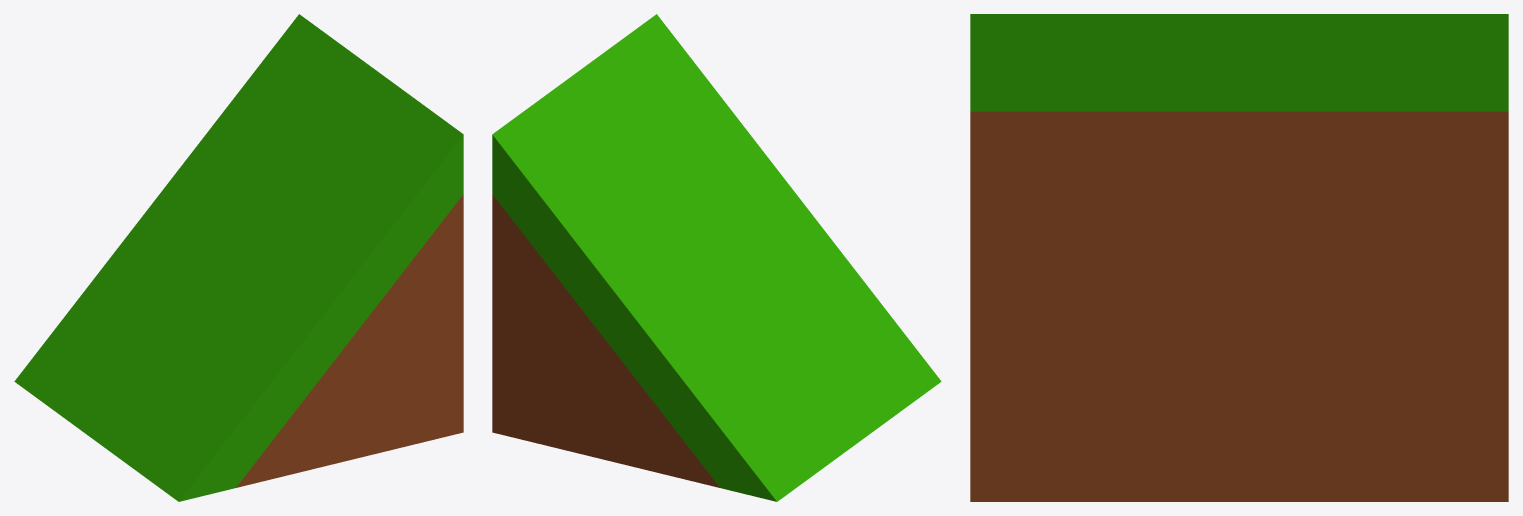
The picture shows the model from 3 angles, left to right: view 1: azimuth 30°, elevation 25°; view 2: azimuth 150°, elevation 25°; view 3: azimuth 270°, elevation 25°; orthographic projection. The views are drawn at different scales.
Visible parts, largest first — view 1: RS; view 2: RS; view 3: RS.
Part boxes in pixels (box(x1,y1,x2,y2)): RS: box(14, 14, 463, 501); RS: box(492, 14, 941, 501); RS: box(970, 14, 1508, 501).
Size of the model in its own units: 0.5 by 0.5 by 0.5.
